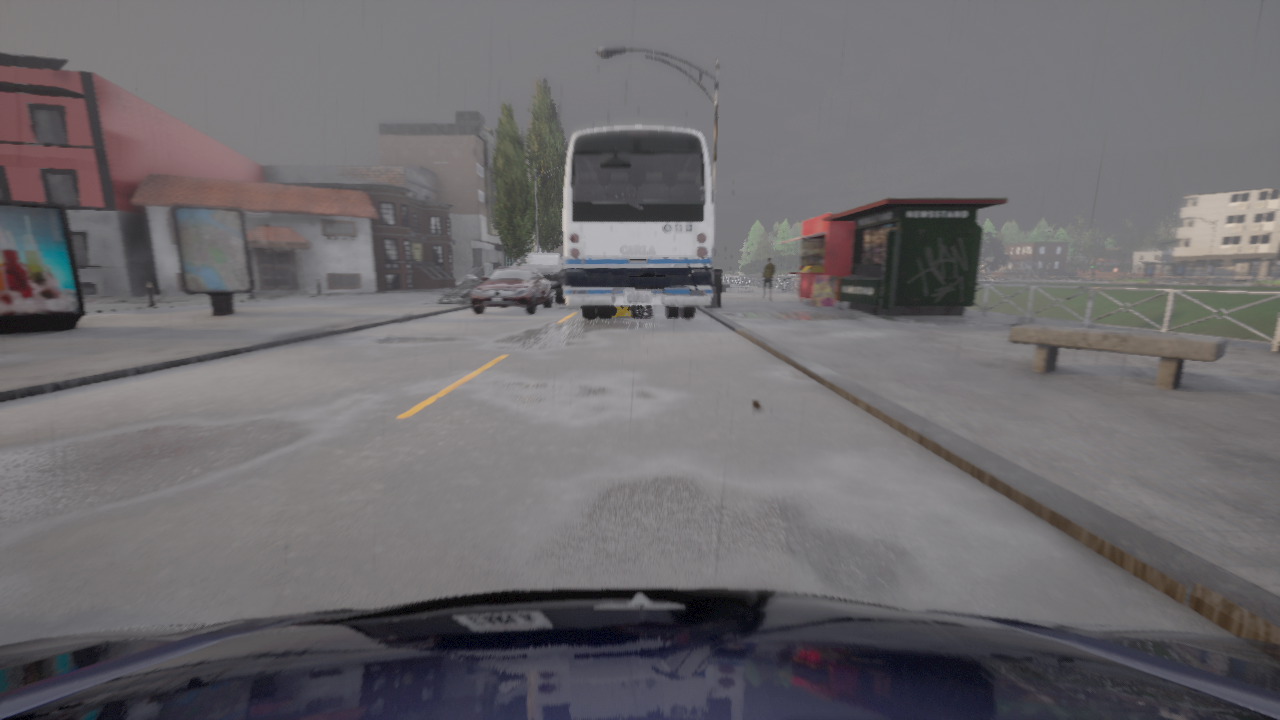cyclist: (0, 588, 1279, 719), (563, 126, 712, 318), (471, 267, 554, 313), (512, 254, 564, 302), (597, 306, 652, 318)
pedestrian: (761, 257, 775, 301)
